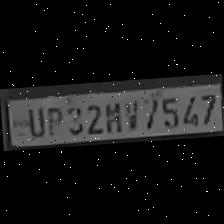2: (81, 100, 102, 134)
3: (62, 102, 83, 136)
4: (178, 92, 198, 125)
5: (156, 93, 178, 127)
7: (138, 96, 158, 130), (197, 90, 217, 124)
M: (100, 99, 122, 134)
P: (42, 104, 63, 136)
U: (21, 104, 44, 137)
